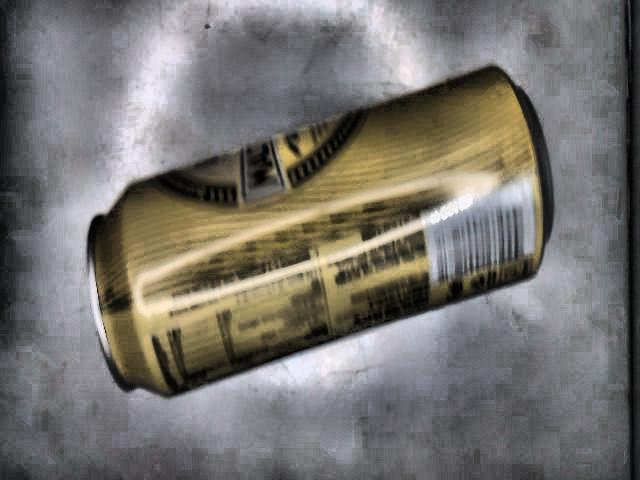Bottles: (84, 63, 555, 399)
